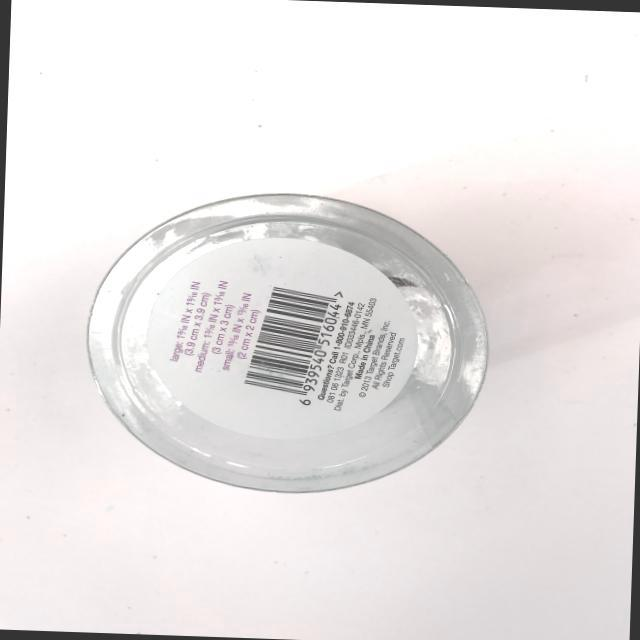plastic: (59, 160, 532, 528)
